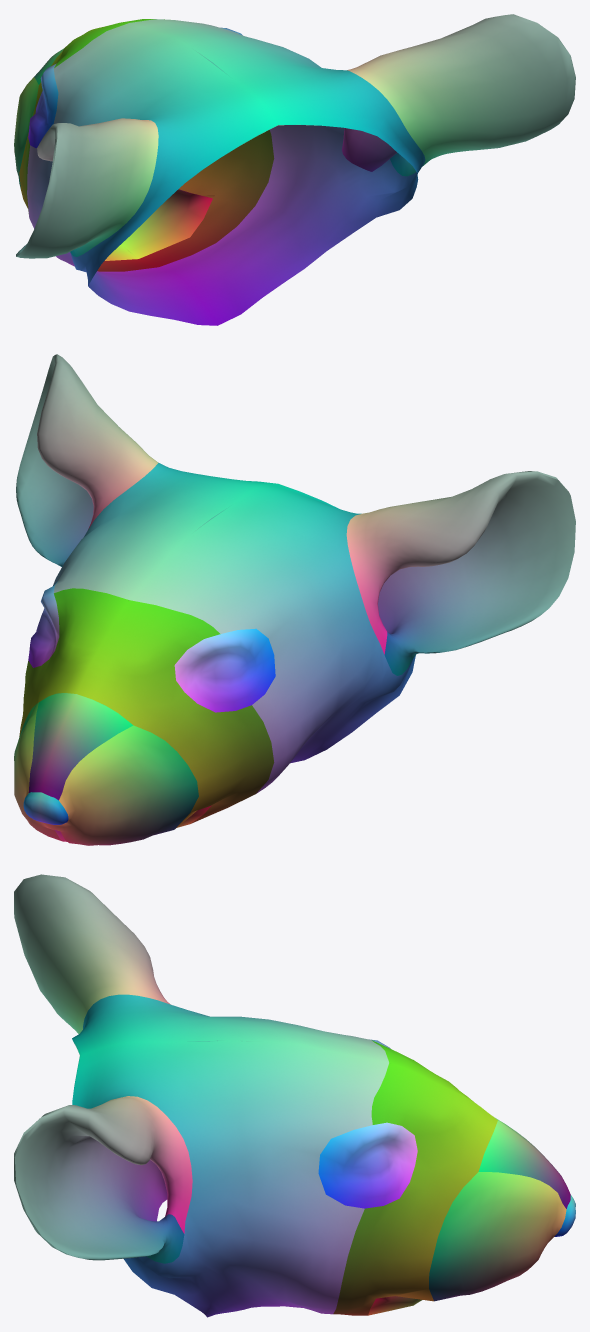
The picture shows the model from 3 angles, top to bottom: view 1: azimuth 30°, elevation 25°; view 2: azimuth 150°, elevation 25°; view 3: azimuth 270°, elevation 25°; orthographic projection. The views are drawn at different scales.
Parts seen in each view (by area): view 1: face_mesh_centered_face_class_2.003; view 2: face_mesh_centered_face_class_2.003; view 3: face_mesh_centered_face_class_2.003.
Part boxes in pixels (<box>): face_mesh_centered_face_class_2.003: <box>14,14,575,325</box>; face_mesh_centered_face_class_2.003: <box>14,354,575,845</box>; face_mesh_centered_face_class_2.003: <box>14,874,575,1317</box>.
Bounding box in the file's own units: 3.08 × 1.66 × 2.66.
8 materials, 8 textured.
